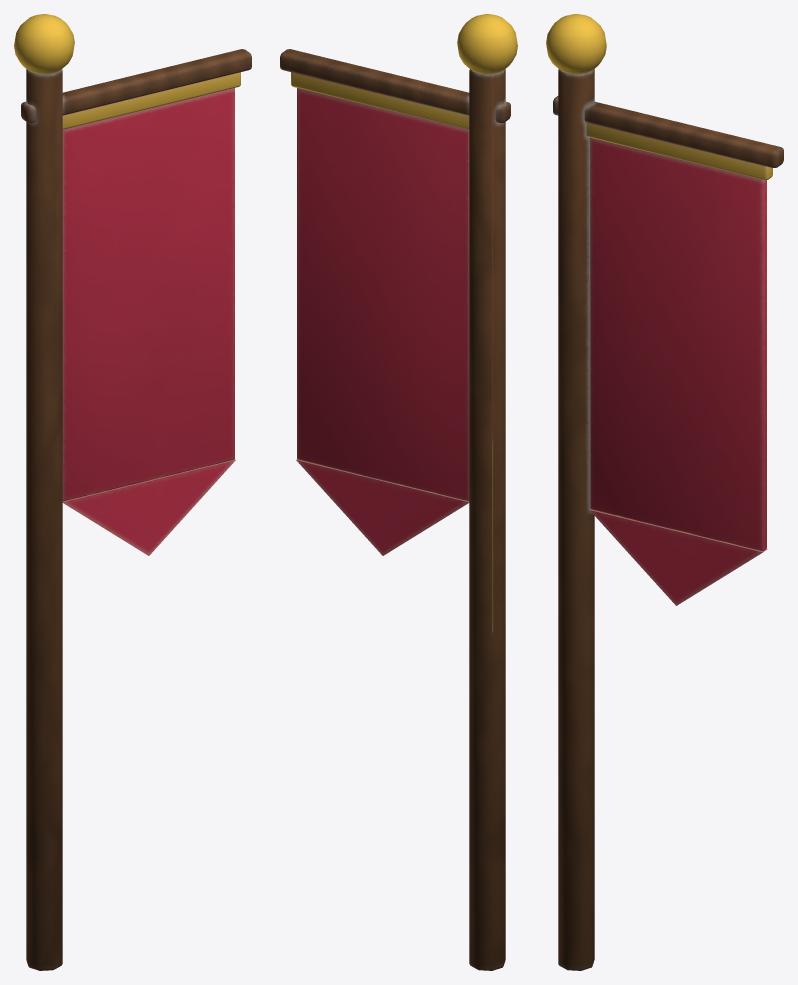
File: sd_banner_pole.glb
3 views of the same model, side by side, from view 1: azimuth 30°, elevation 25°; view 2: azimuth 150°, elevation 25°; view 3: azimuth 330°, elevation 25° (orthographic).
Parts seen in each view (by area): view 1: sd_banner_pole; view 2: sd_banner_pole; view 3: sd_banner_pole.
Boxes of the visible parts, x1=… form: sd_banner_pole: x1=14, y1=14, x2=251, y2=970; sd_banner_pole: x1=280, y1=14, x2=517, y2=970; sd_banner_pole: x1=546, y1=14, x2=783, y2=970.
Bounding box in the file's own units: 1.13 × 4.43 × 0.26.
Materials: 3 (3 with a texture image).
